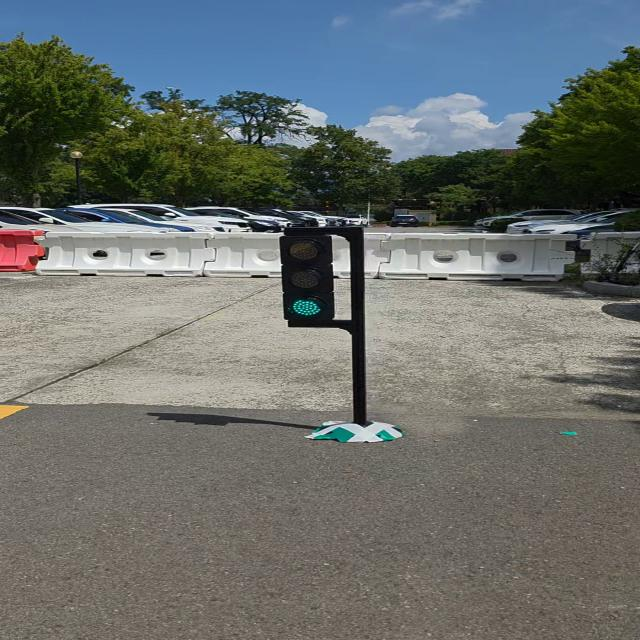green: (281, 230, 335, 325)
